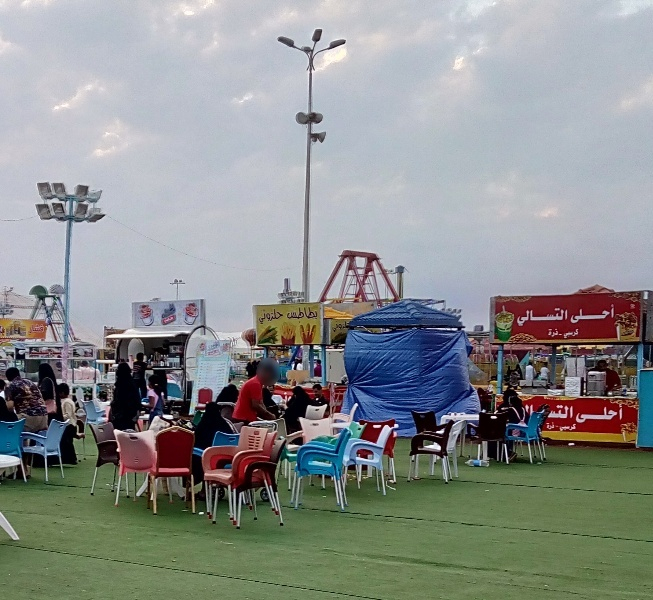text: (529, 306, 544, 327), (545, 306, 560, 327), (577, 404, 592, 424), (593, 404, 608, 424), (577, 305, 592, 324), (593, 305, 608, 324), (609, 404, 623, 424), (258, 307, 272, 325), (517, 306, 528, 327), (273, 307, 285, 325), (289, 307, 304, 320), (561, 405, 574, 420), (305, 307, 319, 320), (561, 306, 568, 327), (161, 316, 176, 325), (561, 423, 576, 432), (337, 320, 347, 333), (552, 405, 560, 420), (564, 329, 576, 339), (609, 305, 615, 324), (546, 422, 560, 430), (548, 329, 560, 338), (33, 325, 44, 334), (571, 305, 576, 324), (332, 320, 336, 333), (28, 325, 32, 334), (577, 329, 579, 339), (561, 329, 563, 338), (287, 307, 288, 320), (555, 426, 560, 428)
